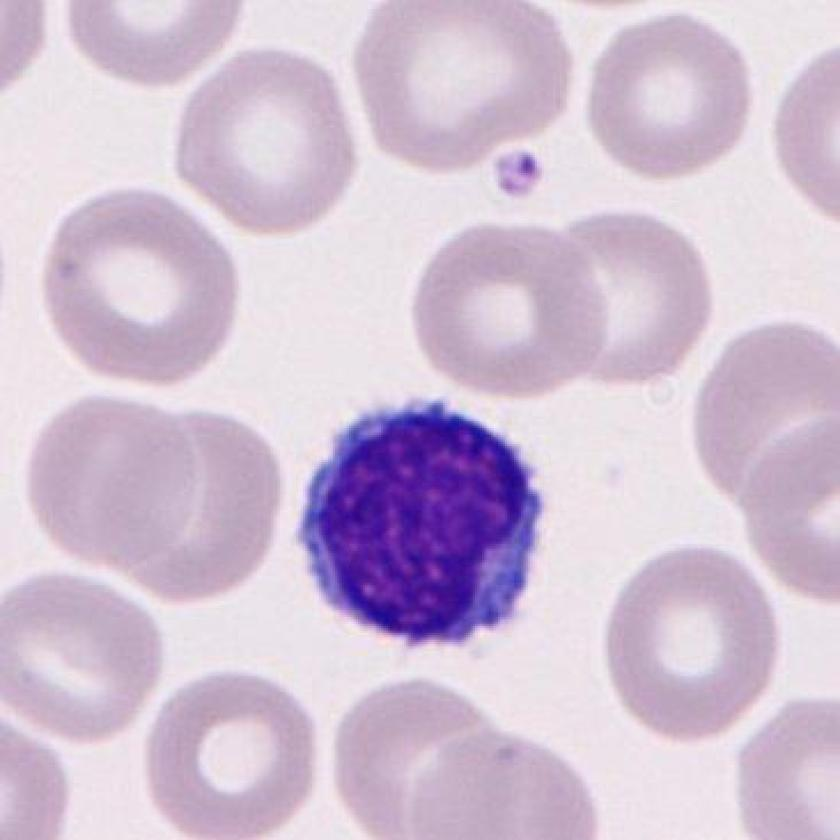lymphocyte: (288, 386, 561, 675)
